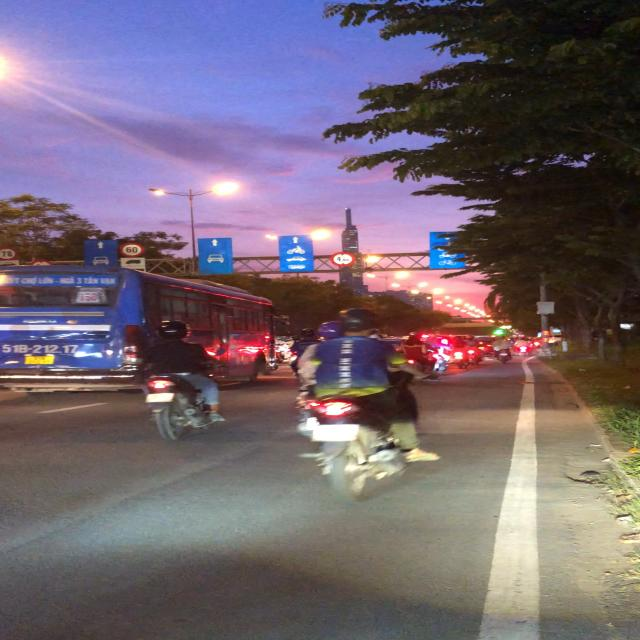Bien bao han che chieu cao: (328, 251, 356, 268)
Bien bao toc do toi da cho phep: (116, 240, 148, 258), (0, 246, 17, 260)
